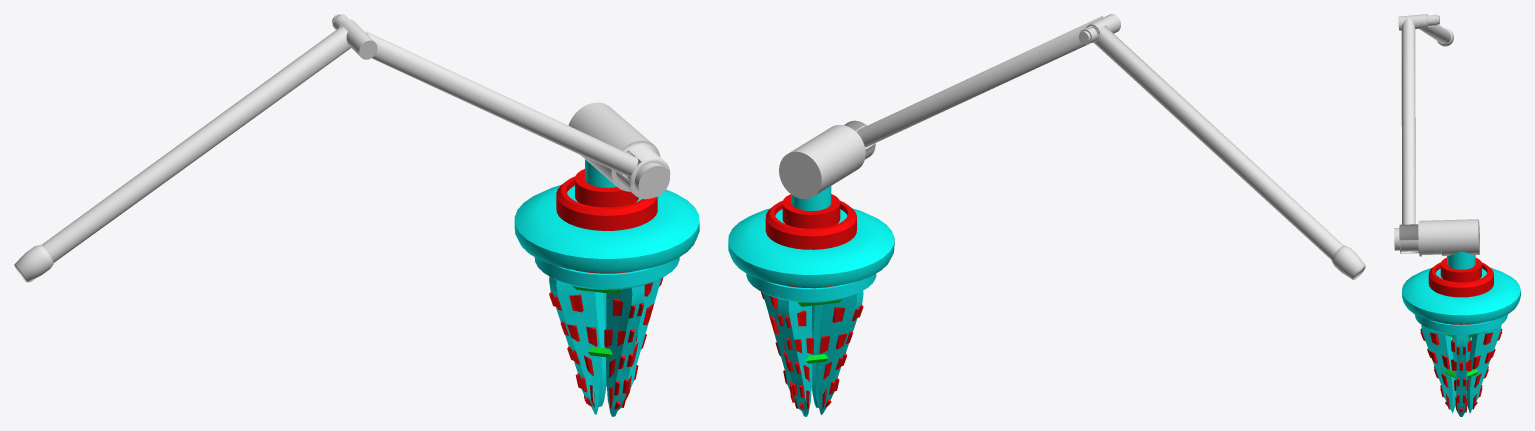
Rendered from Boor.fbx.
3 views of the same model, side by side, from view 1: azimuth 30°, elevation 25°; view 2: azimuth 150°, elevation 25°; view 3: azimuth 270°, elevation 25° (orthographic). The views are drawn at different scales.
Parts seen in each view (by area): view 1: Cylinder, Cube, Circle.047, Circle.052, Circle.053, Cylinder.001, Circle.051, Circle.001; view 2: Cylinder, Cube, Circle.047, Circle.052, Circle.053, Cylinder.001, Circle.001, Circle.051; view 3: Cylinder, Cube, Circle.052, Circle.053, Cylinder.001, Circle.051, Circle.047.
Boxes of the visible parts, bbox=[...] form: Cylinder: bbox=[514, 159, 699, 272]; Cube: bbox=[549, 276, 663, 416]; Circle.047: bbox=[41, 26, 350, 262]; Circle.052: bbox=[366, 31, 638, 176]; Circle.053: bbox=[568, 102, 670, 199]; Cylinder.001: bbox=[534, 257, 679, 289]; Circle.051: bbox=[332, 14, 377, 59]; Circle.001: bbox=[14, 244, 53, 282]; Cylinder: bbox=[728, 186, 894, 287]; Cube: bbox=[761, 291, 863, 416]; Circle.047: bbox=[1094, 26, 1343, 259]; Circle.052: bbox=[857, 16, 1102, 146]; Circle.053: bbox=[779, 120, 875, 199]; Cylinder.001: bbox=[746, 273, 876, 302]; Circle.001: bbox=[1331, 245, 1365, 280]; Circle.051: bbox=[1078, 14, 1120, 44]; Cylinder: bbox=[1402, 251, 1520, 324]; Cube: bbox=[1420, 324, 1502, 416]; Circle.052: bbox=[1401, 18, 1415, 224]; Circle.053: bbox=[1394, 219, 1479, 256]; Cylinder.001: bbox=[1414, 314, 1507, 335]; Circle.051: bbox=[1398, 14, 1439, 30]; Circle.047: bbox=[1419, 24, 1451, 43].
Size of the model in its own units: 1157 by 780 by 290.
